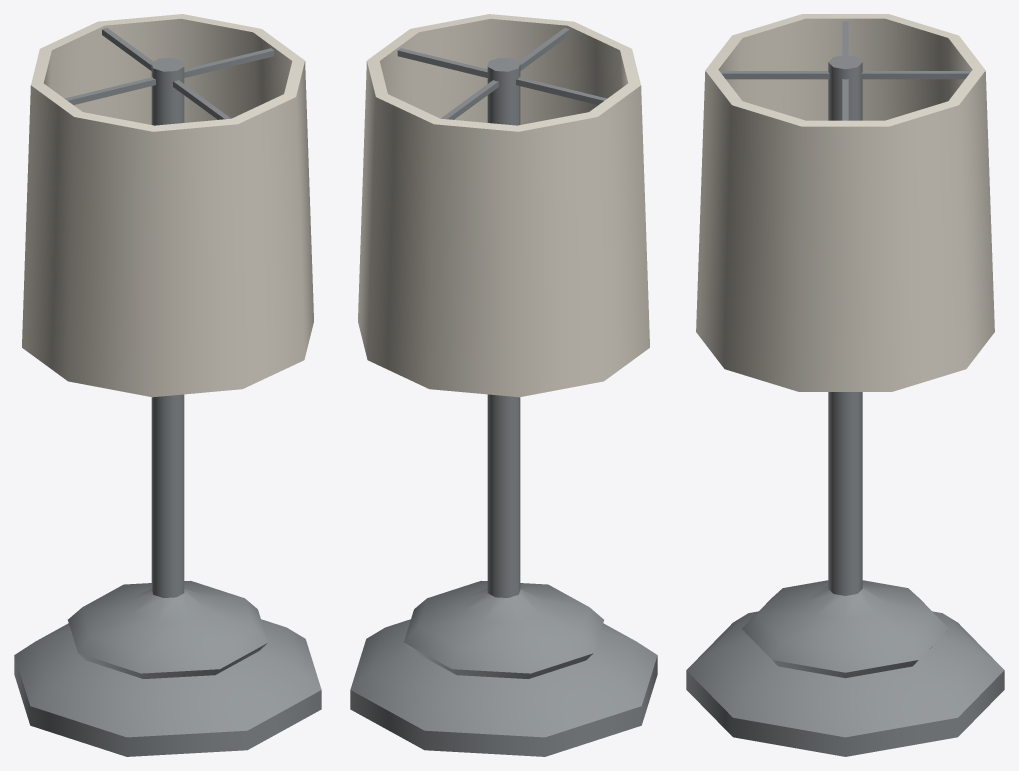
Rendered from pk_lamp_glass.glb.
3 renders of one model, left to right at view 1: azimuth 30°, elevation 25°; view 2: azimuth 150°, elevation 25°; view 3: azimuth 270°, elevation 25°, orthographic.
Parts seen in each view (by area): view 1: pk_lamp_glass; view 2: pk_lamp_glass; view 3: pk_lamp_glass.
Boxes of the visible parts, <box> form: pk_lamp_glass: <box>14,14,321,756</box>; pk_lamp_glass: <box>350,14,657,756</box>; pk_lamp_glass: <box>686,14,1004,756</box>.
Size of the model in its own units: 0.3125 by 0.68 by 0.3125.
1 material, 1 textured.
